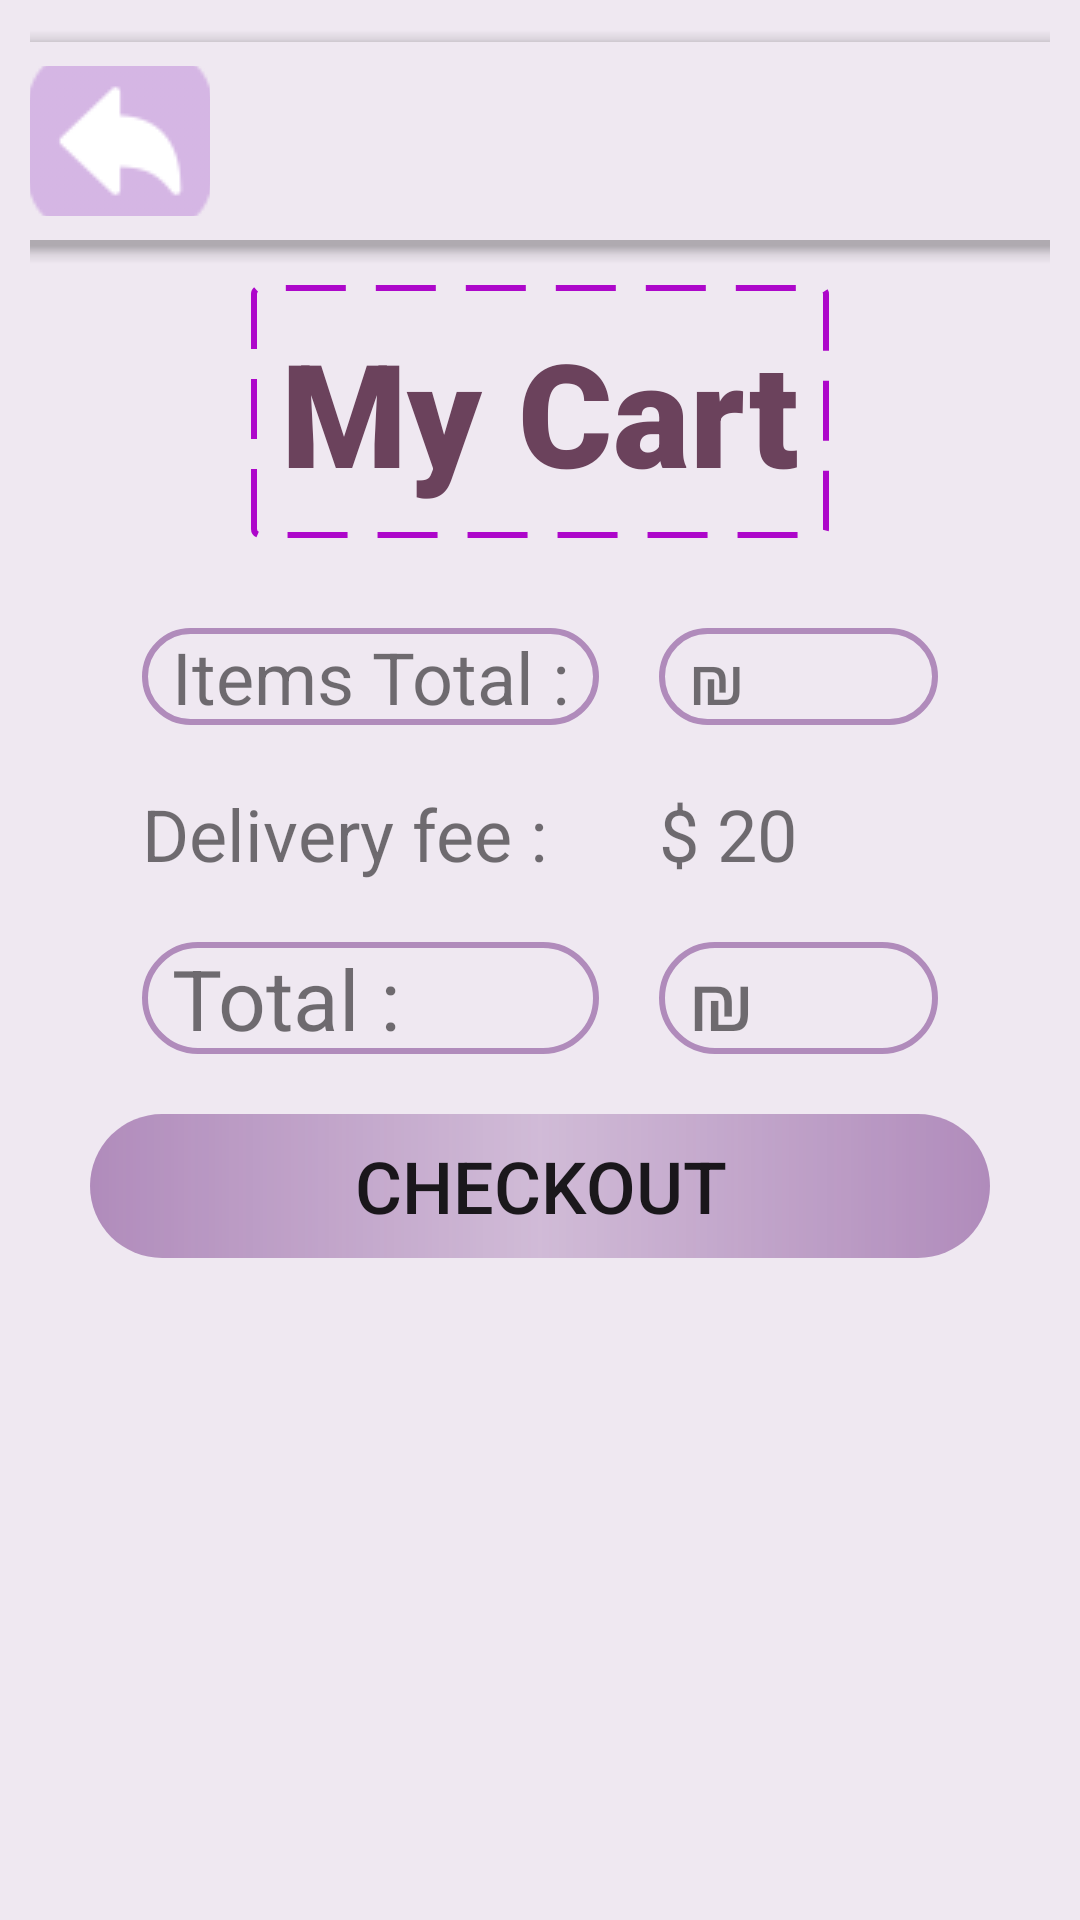

Screen size 1080×1920. Icon name, then its box in pixels as BBox(x1, y1, x2, y2):
back: BBox(30, 66, 210, 216)
